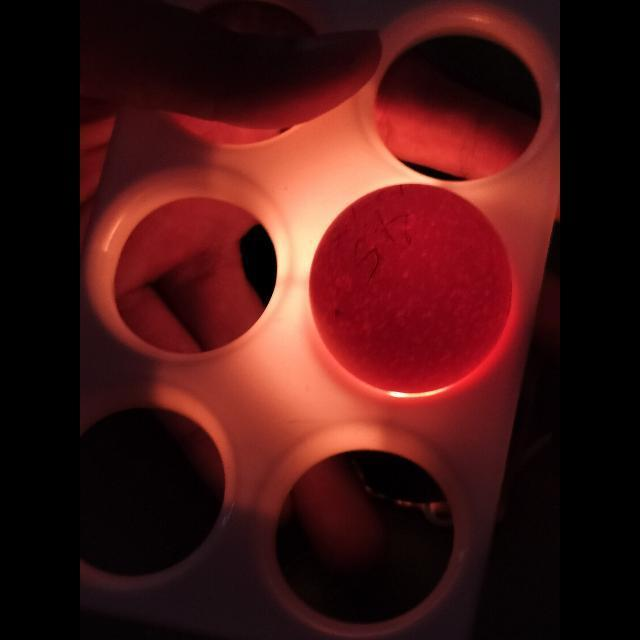A - Good: (304, 180, 513, 399)
